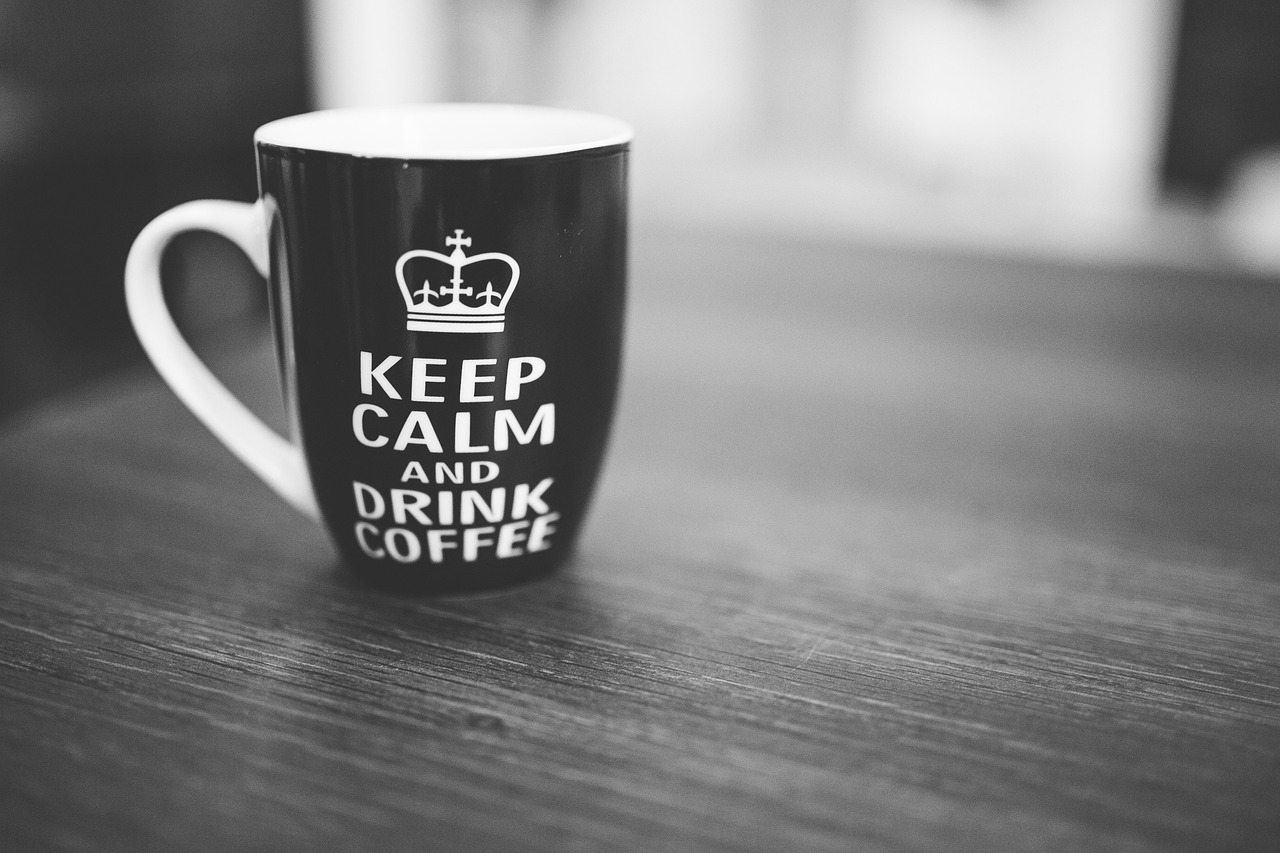mug: (118, 76, 681, 628)
